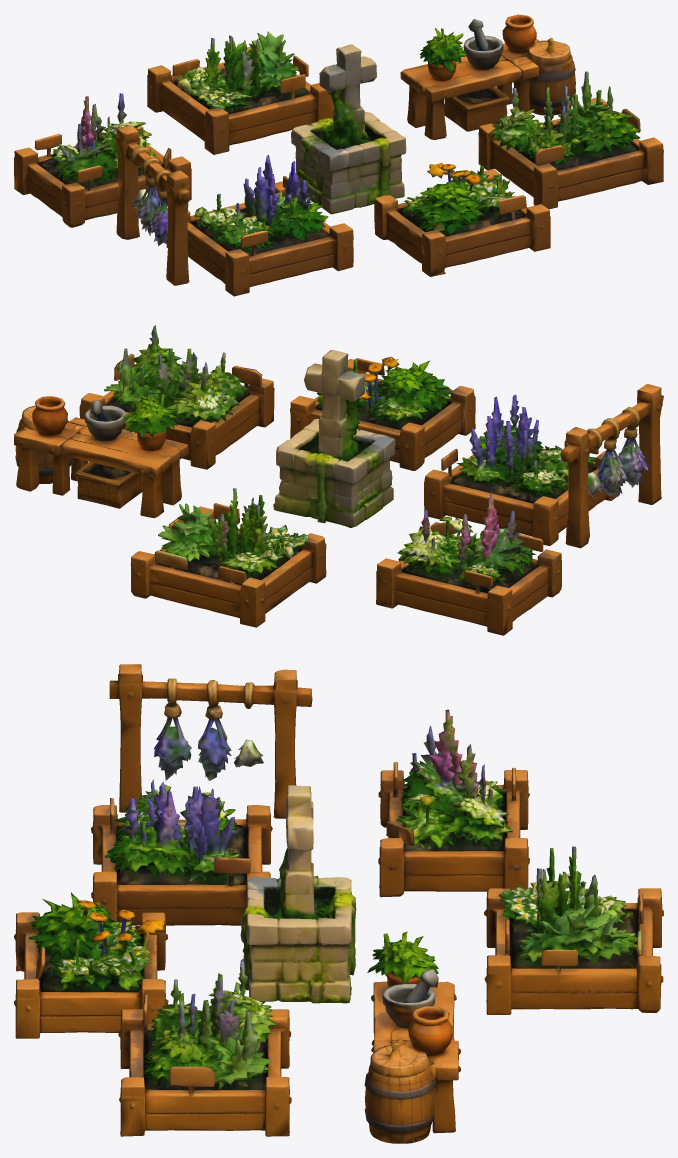
File: garden planter set 3d model.glb
3 renders of one model, top to bottom at view 1: azimuth 30°, elevation 25°; view 2: azimuth 150°, elevation 25°; view 3: azimuth 270°, elevation 25°, orthographic. The views are drawn at different scales.
Visible parts, largest first — view 1: tripo_node_bb6cbc17-a1f6-4b13-ad2e-e95ca34aaa01; view 2: tripo_node_bb6cbc17-a1f6-4b13-ad2e-e95ca34aaa01; view 3: tripo_node_bb6cbc17-a1f6-4b13-ad2e-e95ca34aaa01.
Boxes of the visible parts, left/top/right/bottom form: tripo_node_bb6cbc17-a1f6-4b13-ad2e-e95ca34aaa01: left=14, top=14, right=663, bottom=296; tripo_node_bb6cbc17-a1f6-4b13-ad2e-e95ca34aaa01: left=14, top=325, right=663, bottom=635; tripo_node_bb6cbc17-a1f6-4b13-ad2e-e95ca34aaa01: left=14, top=664, right=663, bottom=1143.
Bounding box in the file's own units: 1 × 0.2687 × 0.8372.
Materials: 1 (1 with a texture image).
